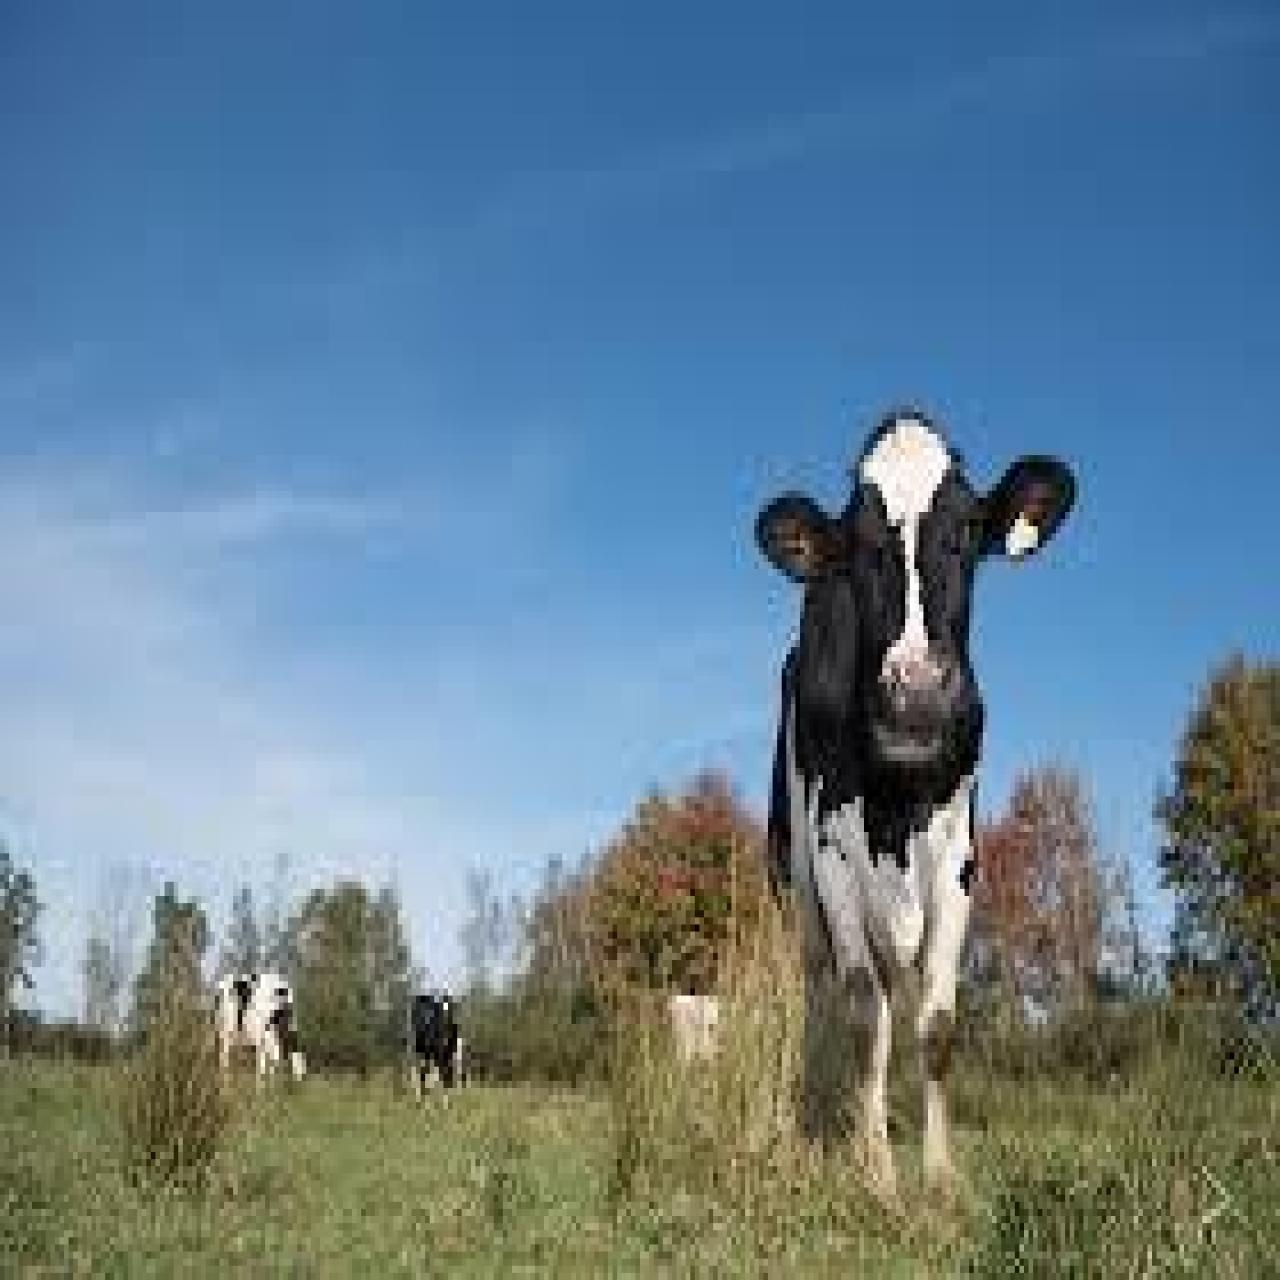cow: (753, 409, 1077, 1212), (217, 967, 308, 1102), (409, 988, 464, 1110)
